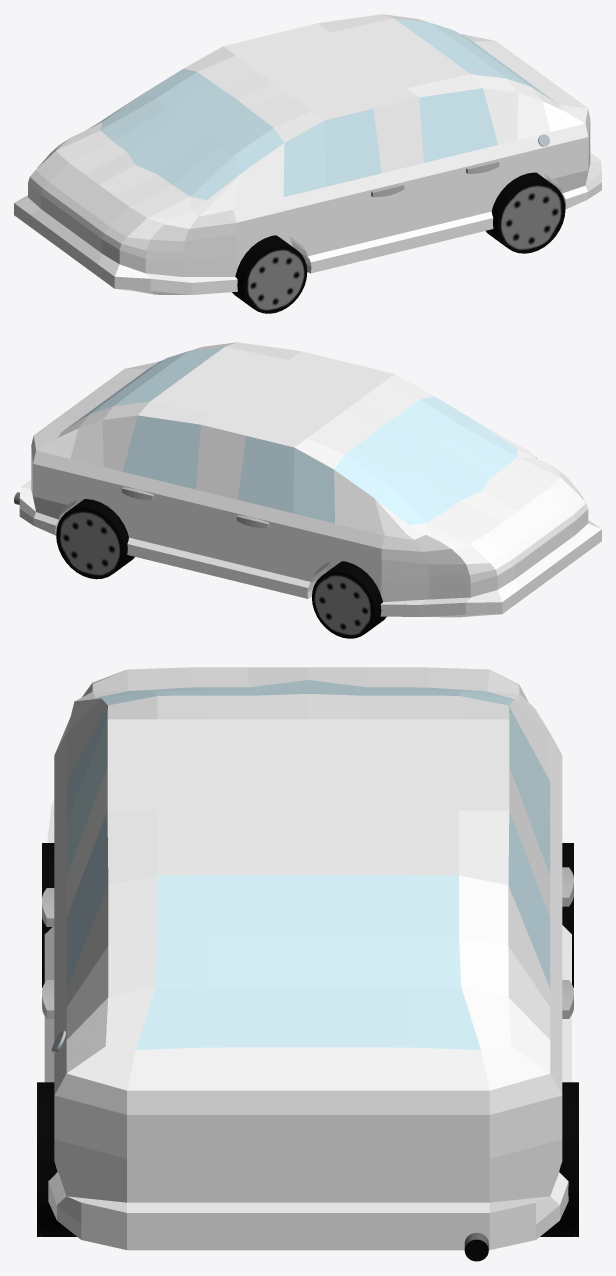
Rendered from Car.fbx.
The picture shows the model from 3 angles, top to bottom: view 1: azimuth 30°, elevation 25°; view 2: azimuth 150°, elevation 25°; view 3: azimuth 270°, elevation 25°; orthographic projection. The views are drawn at different scales.
Visible parts, largest first — view 1: Wheel.002; view 2: Wheel.002; view 3: Wheel.002.
Part boxes in pixels (x1,y1,x2,y2): Wheel.002: (14, 14, 601, 313); Wheel.002: (14, 342, 601, 638); Wheel.002: (37, 667, 578, 1261).
Size of the model in its own units: 2354 by 747 by 1120.
Materials: 1 (1 with a texture image).
